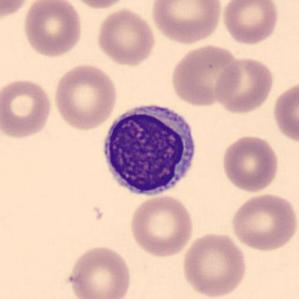Lymphocyte: (97, 97, 200, 201)
RBC: (168, 43, 242, 108), (52, 62, 119, 132), (180, 230, 248, 298), (127, 193, 195, 258), (228, 192, 298, 252), (95, 6, 157, 68), (212, 55, 276, 115), (65, 244, 134, 299), (219, 133, 281, 194), (21, 0, 84, 58), (148, 0, 224, 45), (0, 77, 54, 140), (220, 0, 280, 46), (270, 78, 299, 145), (66, 0, 134, 10), (0, 0, 32, 21)
